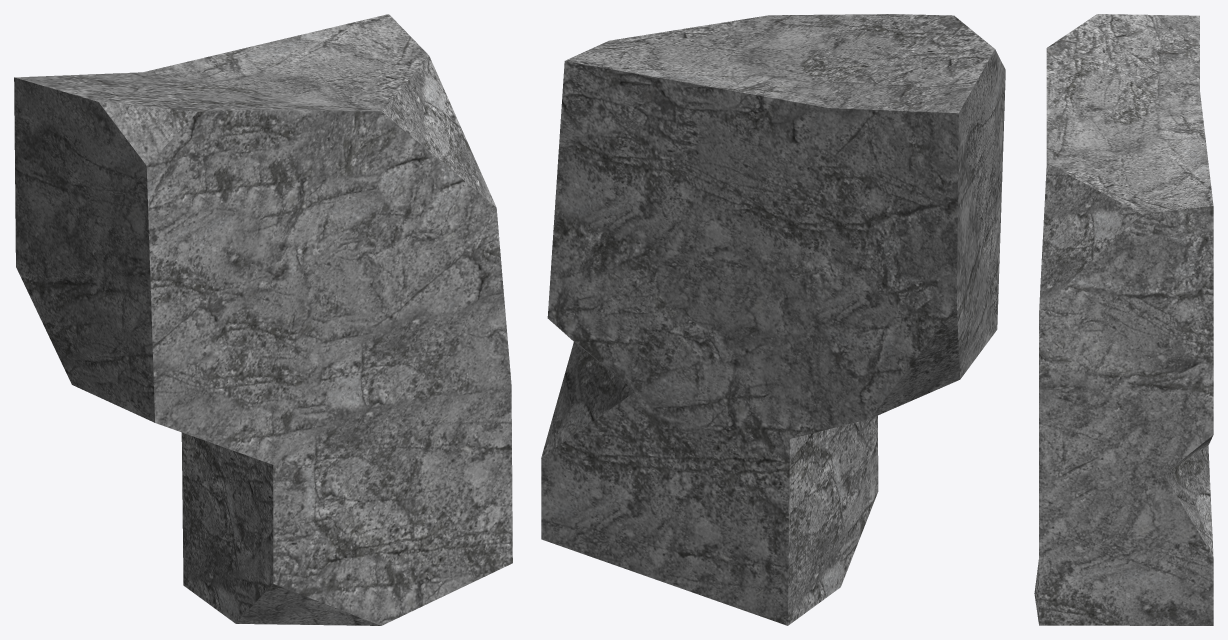
Rendered from materials_3_rubble_26.fbx.
The picture shows the model from 3 angles, left to right: view 1: azimuth 30°, elevation 25°; view 2: azimuth 150°, elevation 25°; view 3: azimuth 270°, elevation 25°; orthographic projection. The views are drawn at different scales.
Visible parts, largest first — view 1: materials_3_rubble_26; view 2: materials_3_rubble_26; view 3: materials_3_rubble_26.
Part boxes in pixels (x1,y1,x2,y2): materials_3_rubble_26: (14, 14, 512, 625); materials_3_rubble_26: (541, 14, 1005, 625); materials_3_rubble_26: (1034, 14, 1213, 625).
Size of the model in its own units: 80.16 by 106 by 35.81.
